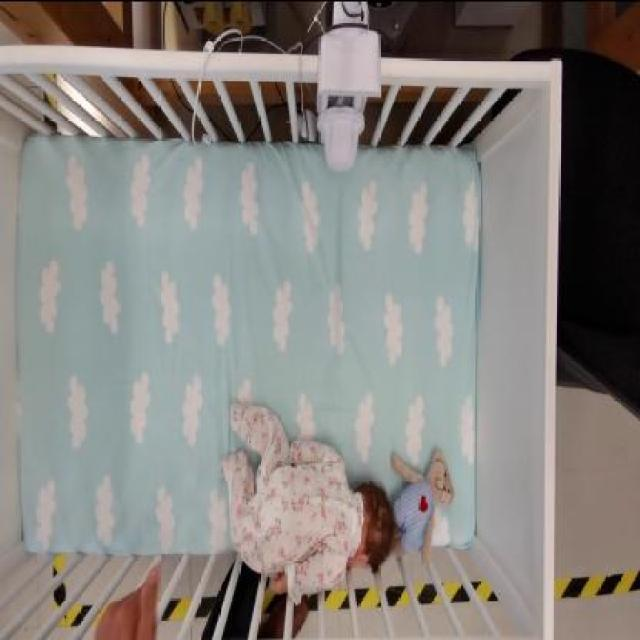baby: (220, 398, 406, 608)
